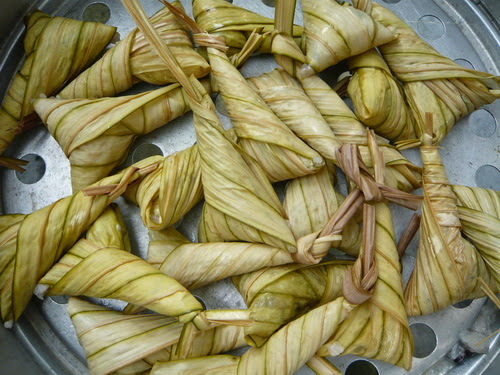kanomtom: (278, 167, 424, 368), (28, 78, 229, 208), (179, 86, 314, 263), (36, 196, 214, 325), (386, 121, 498, 320), (353, 1, 496, 144)
